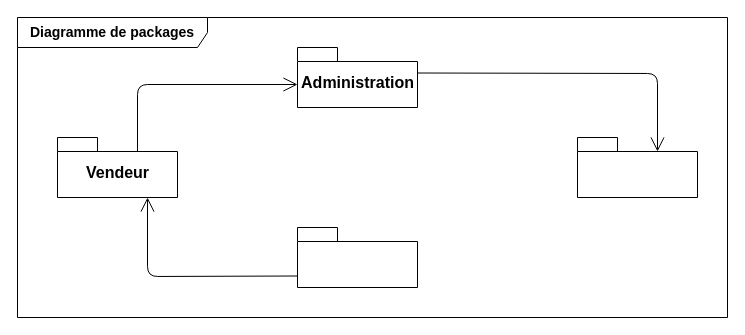
Some shapes in this 745 by 335 pixel diagram are drawn without their labels. The shapes that lost their labels are listed below. From the top down, each one's centre as x and y in pixels, then its label:
point (637, 167): Paiement
point (357, 257): Client
